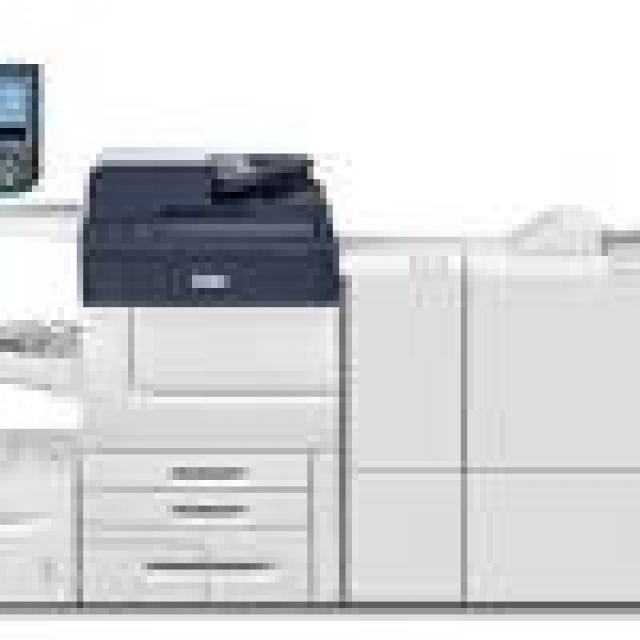printer: (73, 125, 347, 630)
